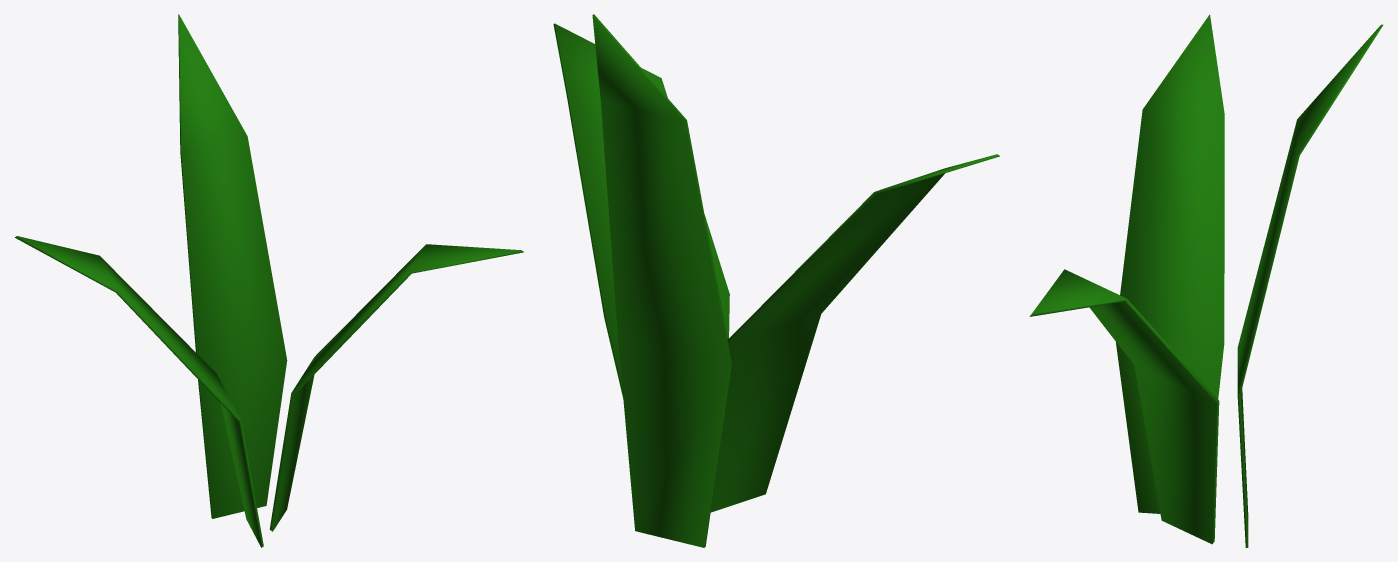
The model's file is Grass_Bunch.fbx.
3 renders of one model, left to right at view 1: azimuth 30°, elevation 25°; view 2: azimuth 150°, elevation 25°; view 3: azimuth 270°, elevation 25°, orthographic. The views are drawn at different scales.
Visible parts, largest first — view 1: BunchOfGrass_1; view 2: BunchOfGrass_1; view 3: BunchOfGrass_1.
Boxes of the visible parts, x1,y1,x2,y2 form: BunchOfGrass_1: [15, 14, 523, 547]; BunchOfGrass_1: [553, 14, 999, 547]; BunchOfGrass_1: [1029, 14, 1383, 547].
Bounding box in the file's own units: 35.21 × 35.52 × 22.43.
